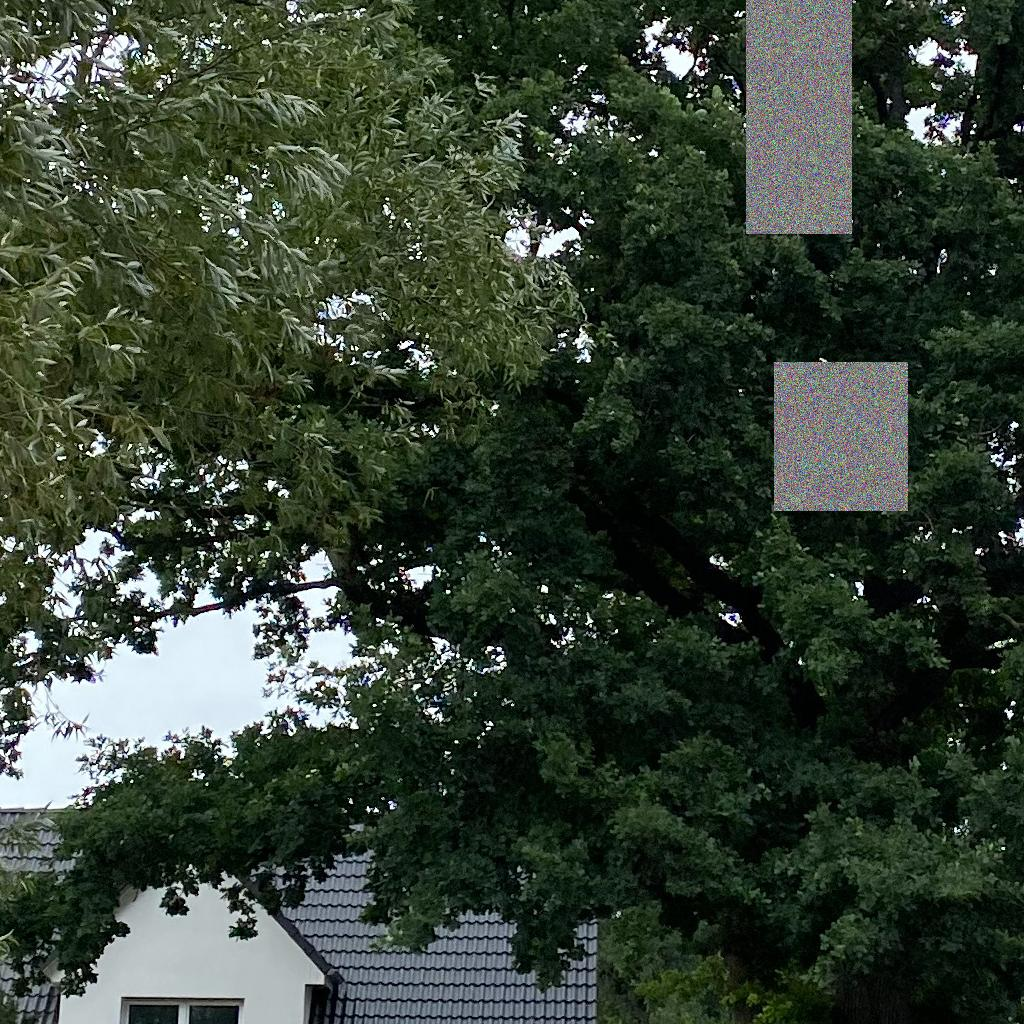tree: (1, 1, 1023, 1024), (1, 1, 586, 779)
